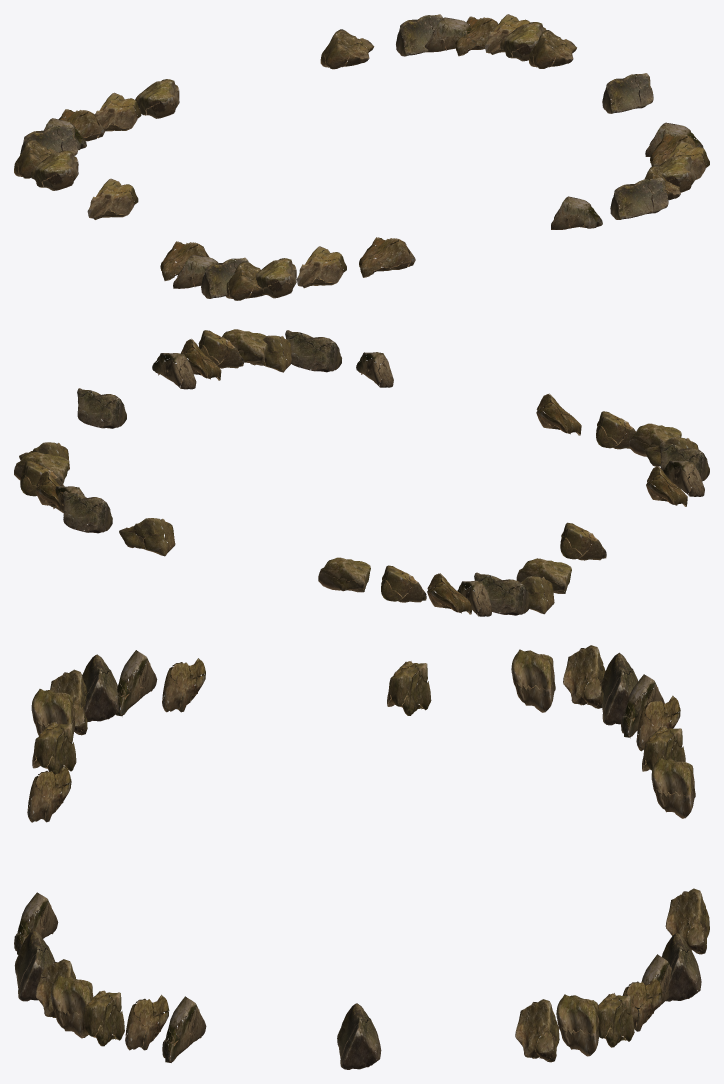
Rendered from arena_fracture_rim_2.glb.
3 views of the same model, one above another, from view 1: azimuth 30°, elevation 25°; view 2: azimuth 150°, elevation 25°; view 3: azimuth 270°, elevation 25° (orthographic). The views are drawn at different scales.
Parts seen in each view (by area): view 1: Fitted thirty naturally fractured cliff stones; view 2: Fitted thirty naturally fractured cliff stones; view 3: Fitted thirty naturally fractured cliff stones.
Part boxes in pixels (x1,y1,x2,y2): Fitted thirty naturally fractured cliff stones: [14, 14, 709, 300]; Fitted thirty naturally fractured cliff stones: [14, 329, 709, 616]; Fitted thirty naturally fractured cliff stones: [14, 645, 709, 1069].
Size of the model in its own units: 37.76 by 2.22 by 28.3.
1 material, 1 textured.
